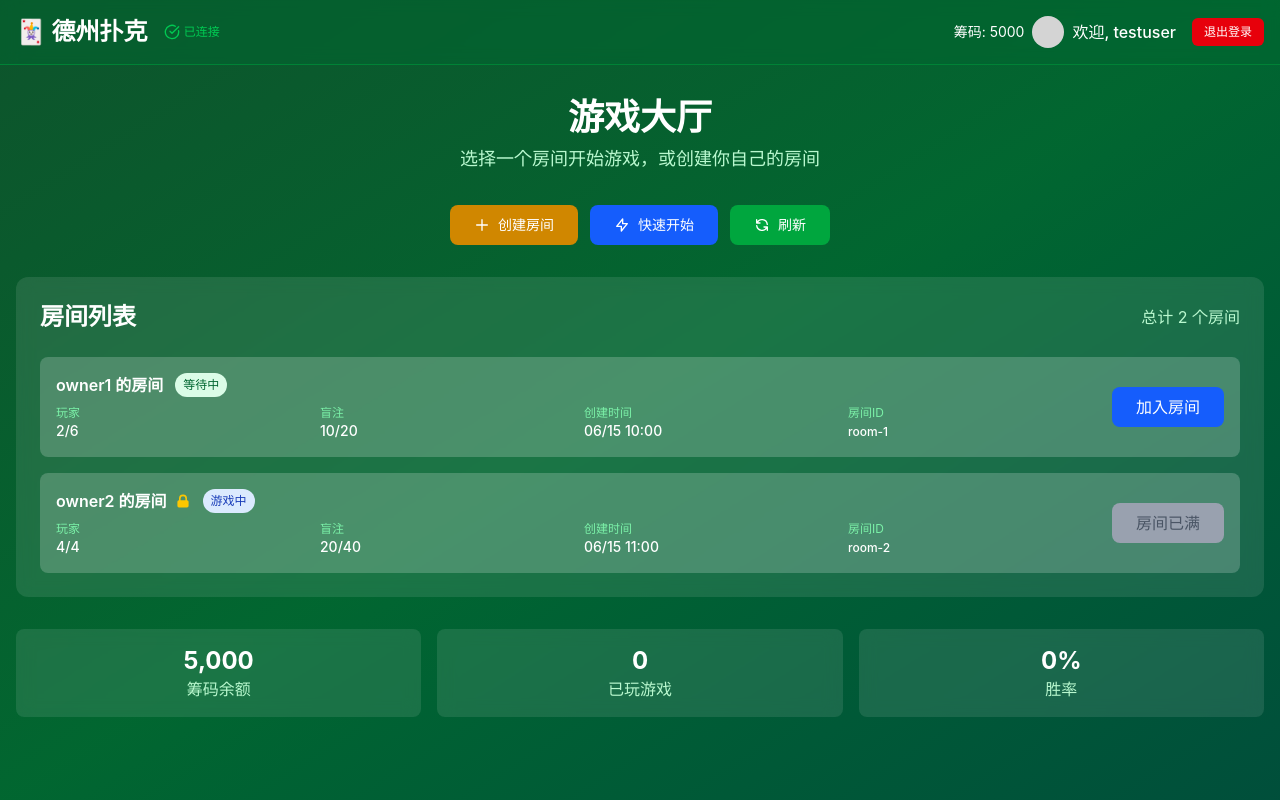
Test: LobbyPage › Error Handling › should handle socket errors
The image size is (1280, 800).
Click the button "快速开始" at (654, 225), box [590,205,718,245]
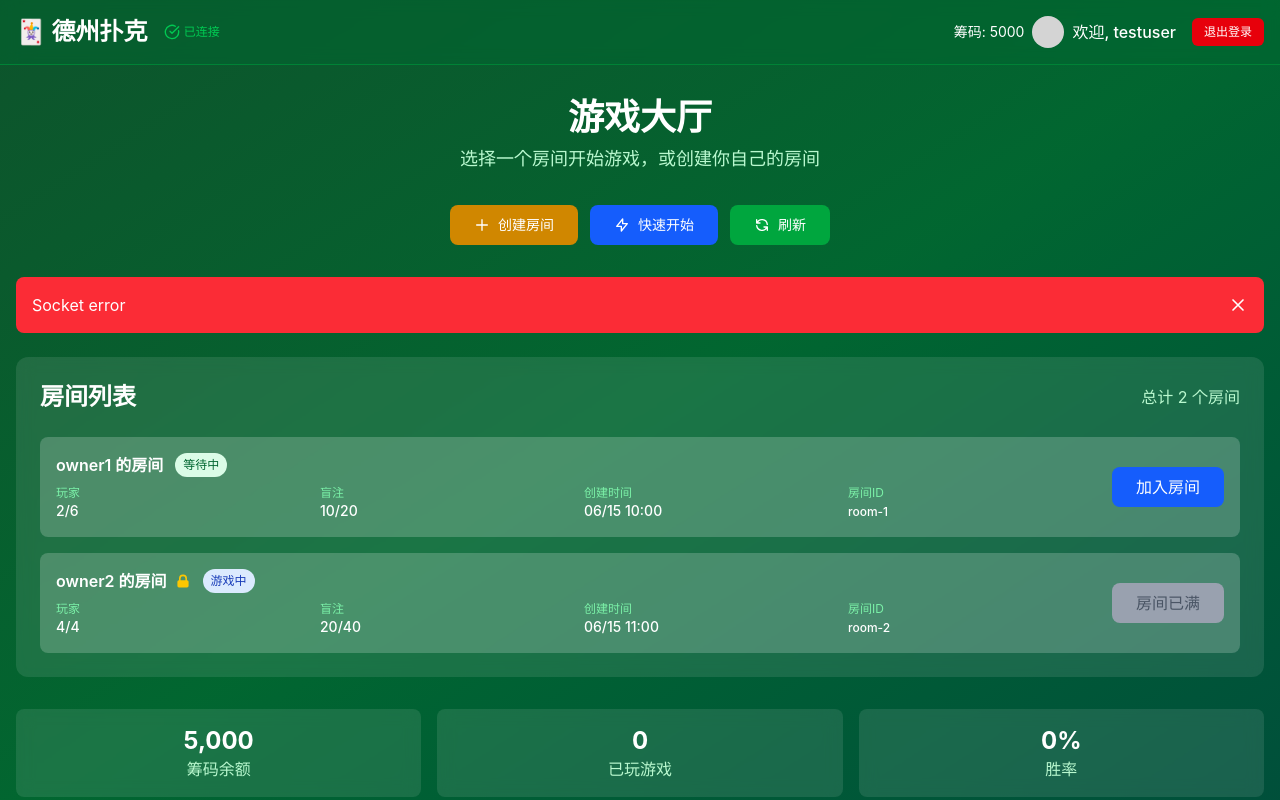
Result: the text "Socket error" is shown at [32,293,126,317]
